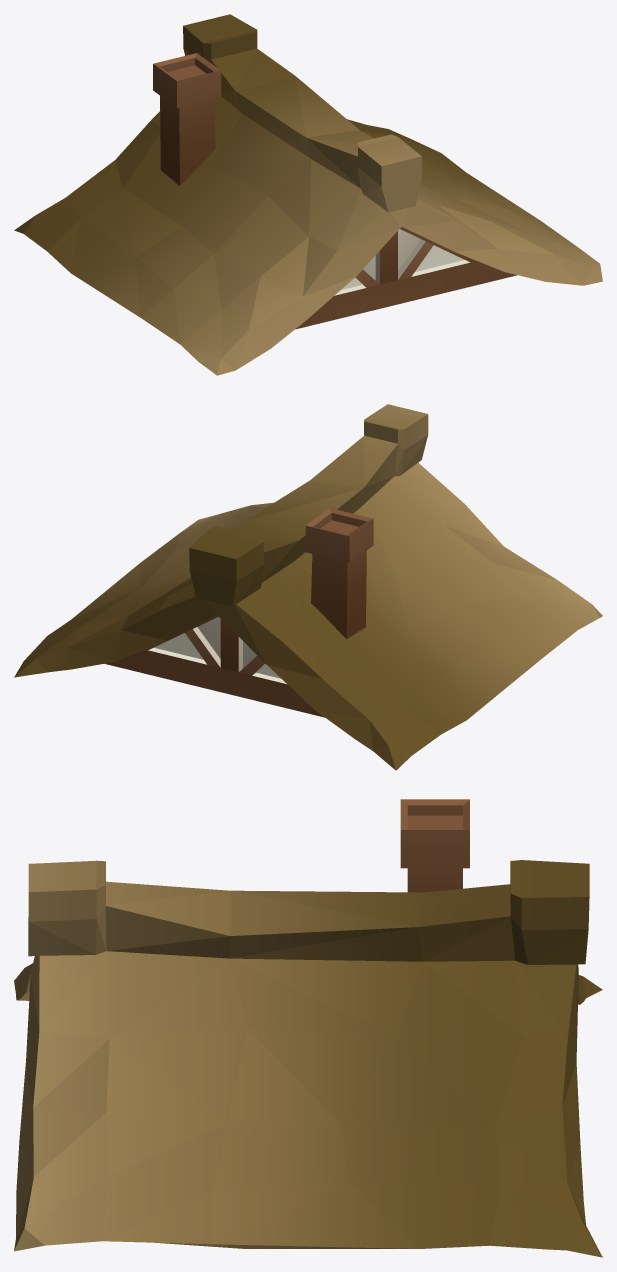
Rendered from House_4x5_RoofFull.fbx.
The picture shows the model from 3 angles, top to bottom: view 1: azimuth 30°, elevation 25°; view 2: azimuth 150°, elevation 25°; view 3: azimuth 270°, elevation 25°; orthographic projection. The views are drawn at different scales.
Parts seen in each view (by area): view 1: House_4x5_RoofFull; view 2: House_4x5_RoofFull; view 3: House_4x5_RoofFull.
Boxes of the visible parts, x1,y1,x2,y2 form: House_4x5_RoofFull: (14, 14, 602, 375); House_4x5_RoofFull: (14, 404, 602, 770); House_4x5_RoofFull: (14, 799, 602, 1257).
Bounding box in the file's own units: 6.03 × 2.55 × 5.33.
1 material, 1 textured.
